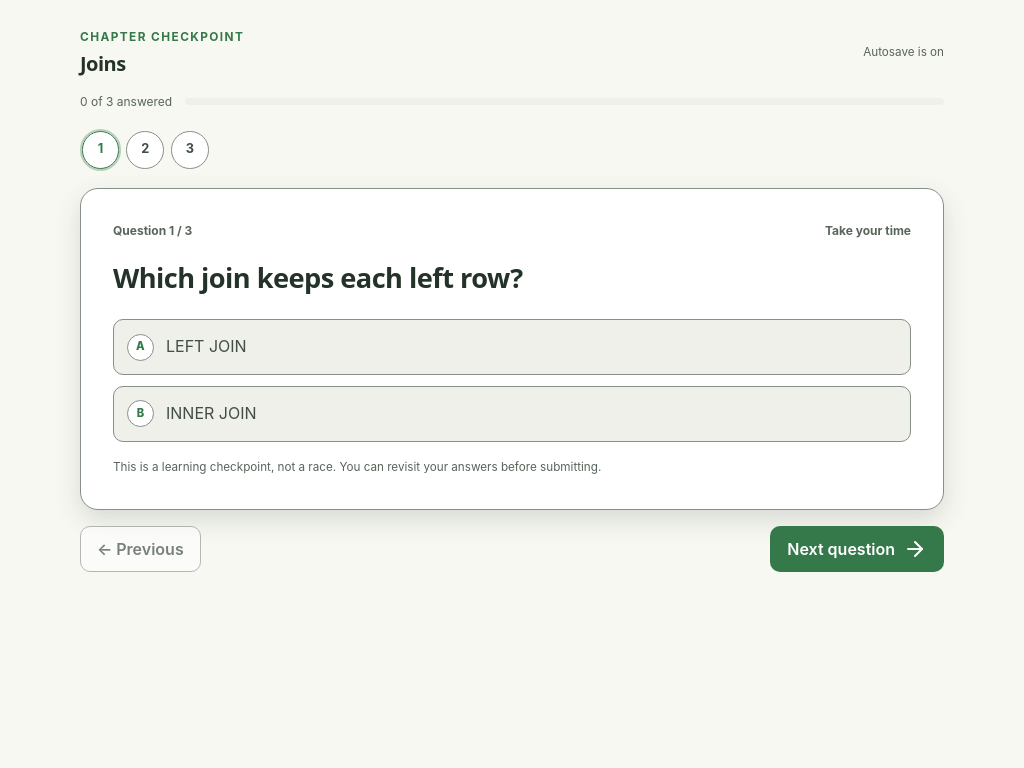
Test: Chapter checkpoint experience › uses question navigation while keeping only the selected question active
Check: the heading "Which join keeps each left row?" is shown, box [113,259,523,296]
Click the button named "Question 2, unanswered". click: point(145, 150)
box: [126,131,164,168]
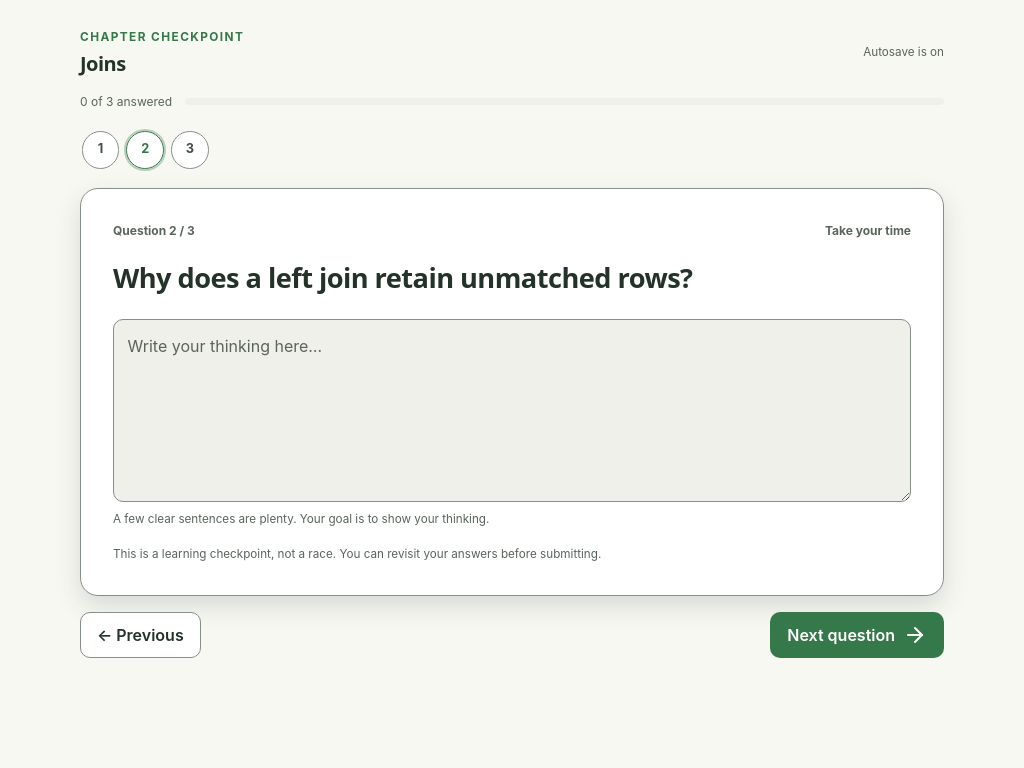
Check: the heading "Why does a left join retain unmatched rows?" is shown, box [113,259,692,296]
Type "The left side remains." into the text box with placeholder "Write your thinking here…". click: point(512, 411)
box: [113,319,911,502]
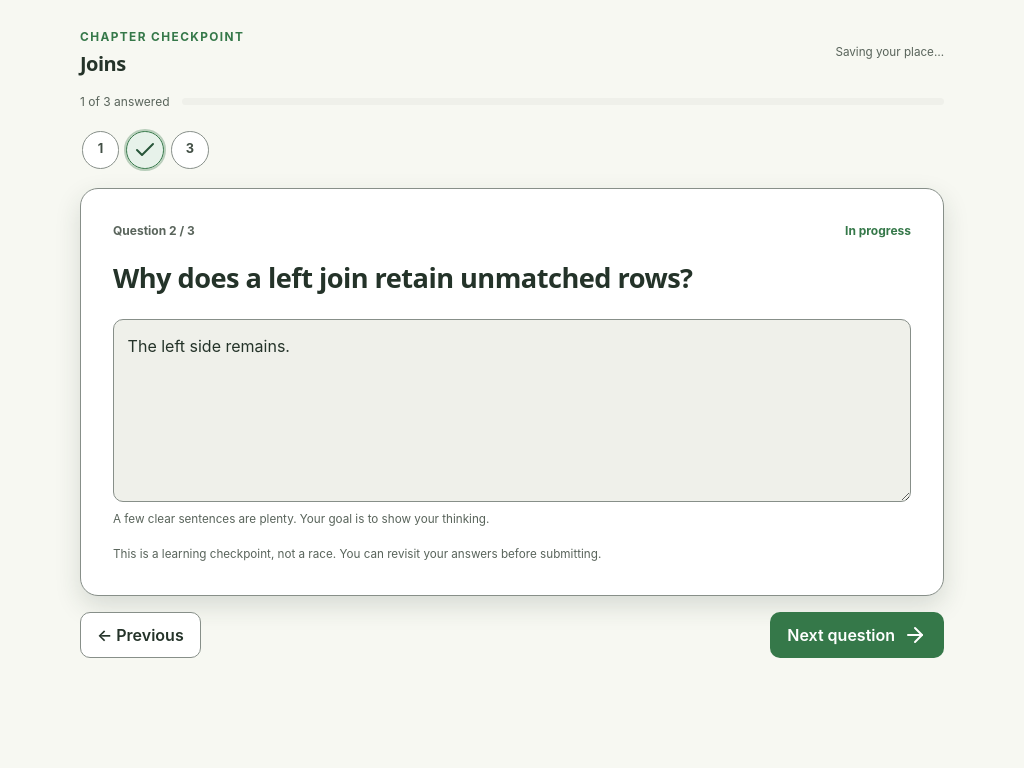
Click the button named "Question 1, unanswered". click: point(100, 150)
box: [82,131,119,168]
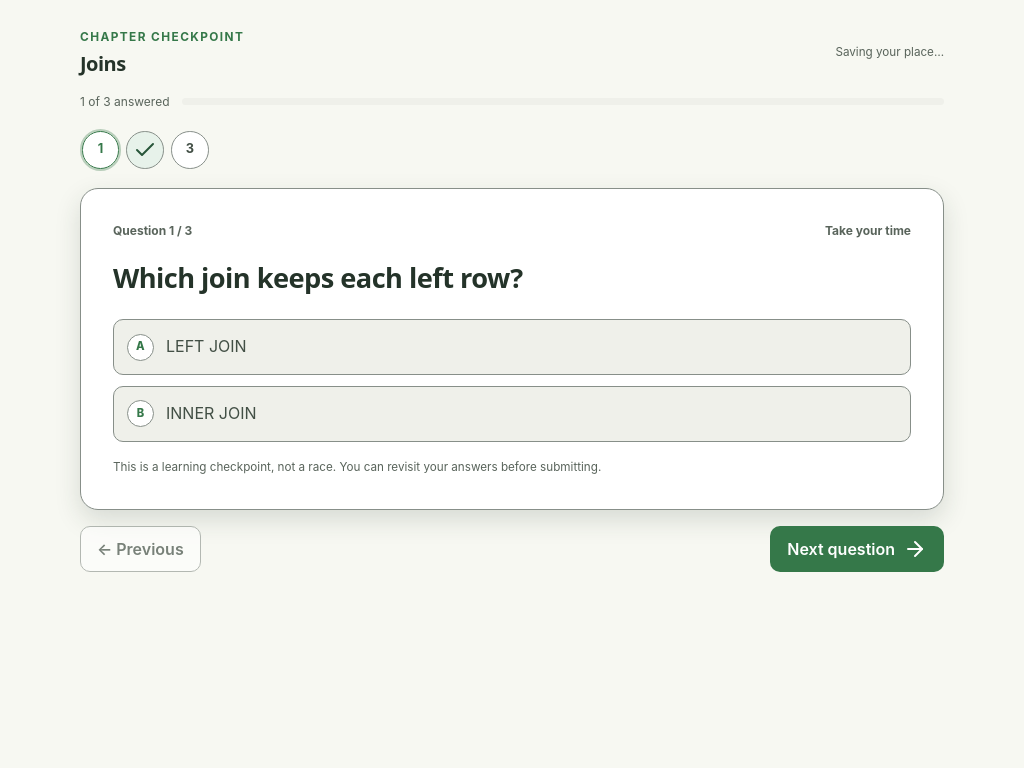
Check: the radio button labelled "A LEFT JOIN" is not checked, box [113,319,911,375]
Click the button named "Question 2, answered". click: point(145, 150)
box: [126,131,164,168]
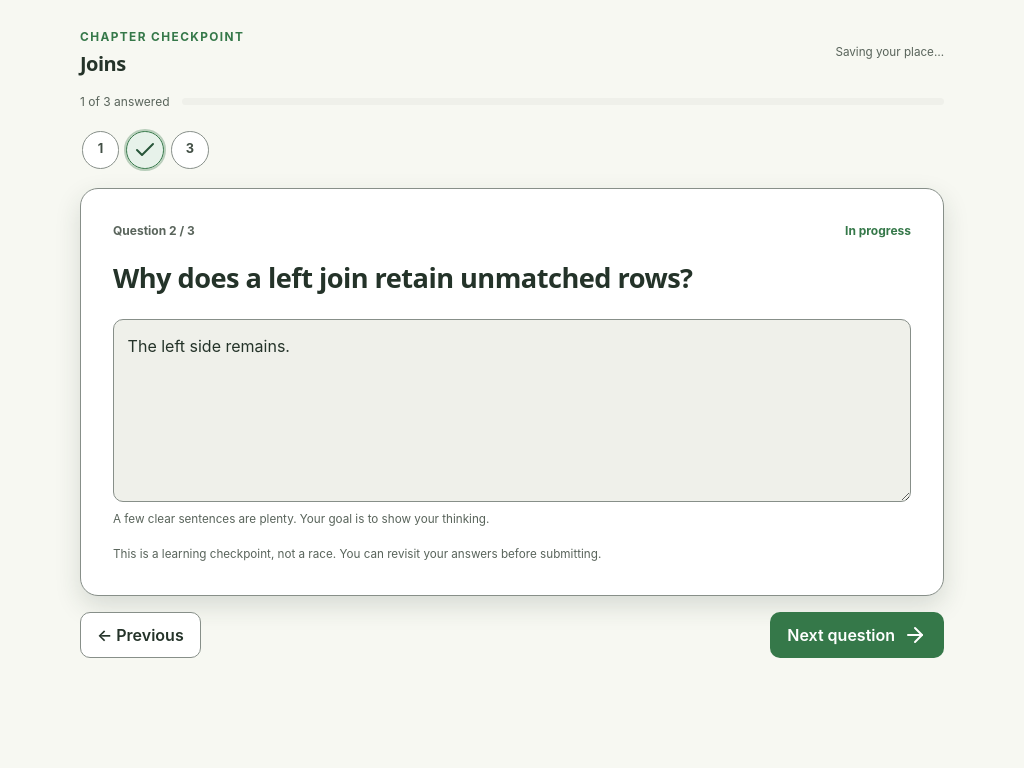
Check: the text "1 of 3 answered" is shown, box [80,92,170,111]
Check: the text box with placeholder "Write your thinking here…" holds "The left side remains.", box [113,319,911,502]
